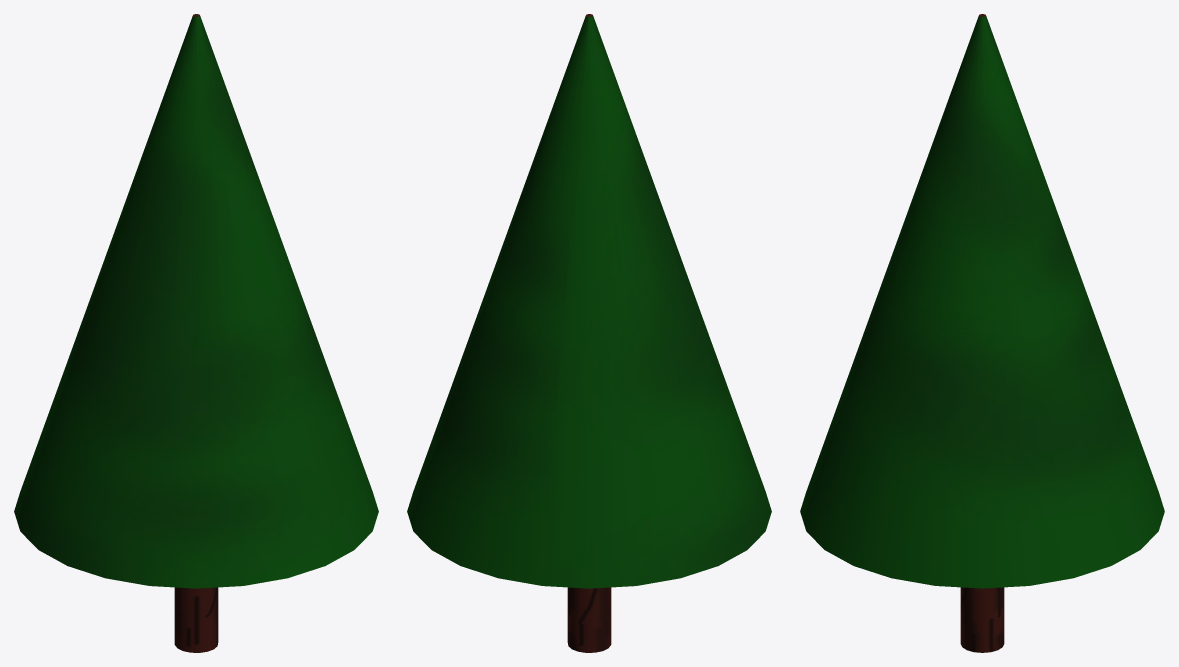
File: pine_tree.fbx
The picture shows the model from 3 angles, left to right: view 1: azimuth 30°, elevation 25°; view 2: azimuth 150°, elevation 25°; view 3: azimuth 270°, elevation 25°; orthographic projection.
Parts seen in each view (by area): view 1: Cylinder001; view 2: Cylinder001; view 3: Cylinder001.
Boxes of the visible parts, x1,y1,x2,y2 form: Cylinder001: (14,14,378,652); Cylinder001: (407,14,771,652); Cylinder001: (800,14,1164,652).
Bounding box in the file's own units: 2 × 3.8 × 2.
